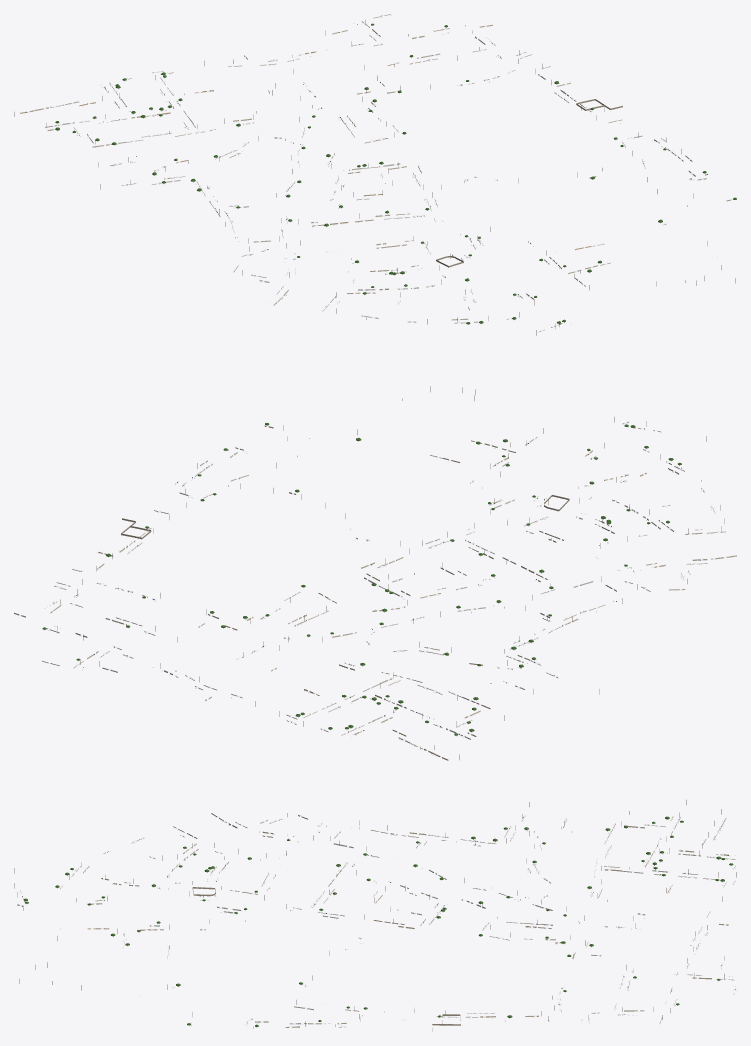
File: nd_stm_m8_m6.glb
The picture shows the model from 3 angles, top to bottom: view 1: azimuth 30°, elevation 25°; view 2: azimuth 150°, elevation 25°; view 3: azimuth 270°, elevation 25°; orthographic projection. The views are drawn at different scales.
Parts seen in each view (by area): view 1: nd_stm_m8_m6_lod0; view 2: nd_stm_m8_m6_lod0; view 3: nd_stm_m8_m6_lod0.
Boxes of the visible parts, x1,y1,x2,y2 form: nd_stm_m8_m6_lod0: (14, 14, 736, 335); nd_stm_m8_m6_lod0: (14, 386, 736, 760); nd_stm_m8_m6_lod0: (14, 800, 736, 1031).
Size of what is drawn, in the model's own units: 783 by 19.15 by 998.
